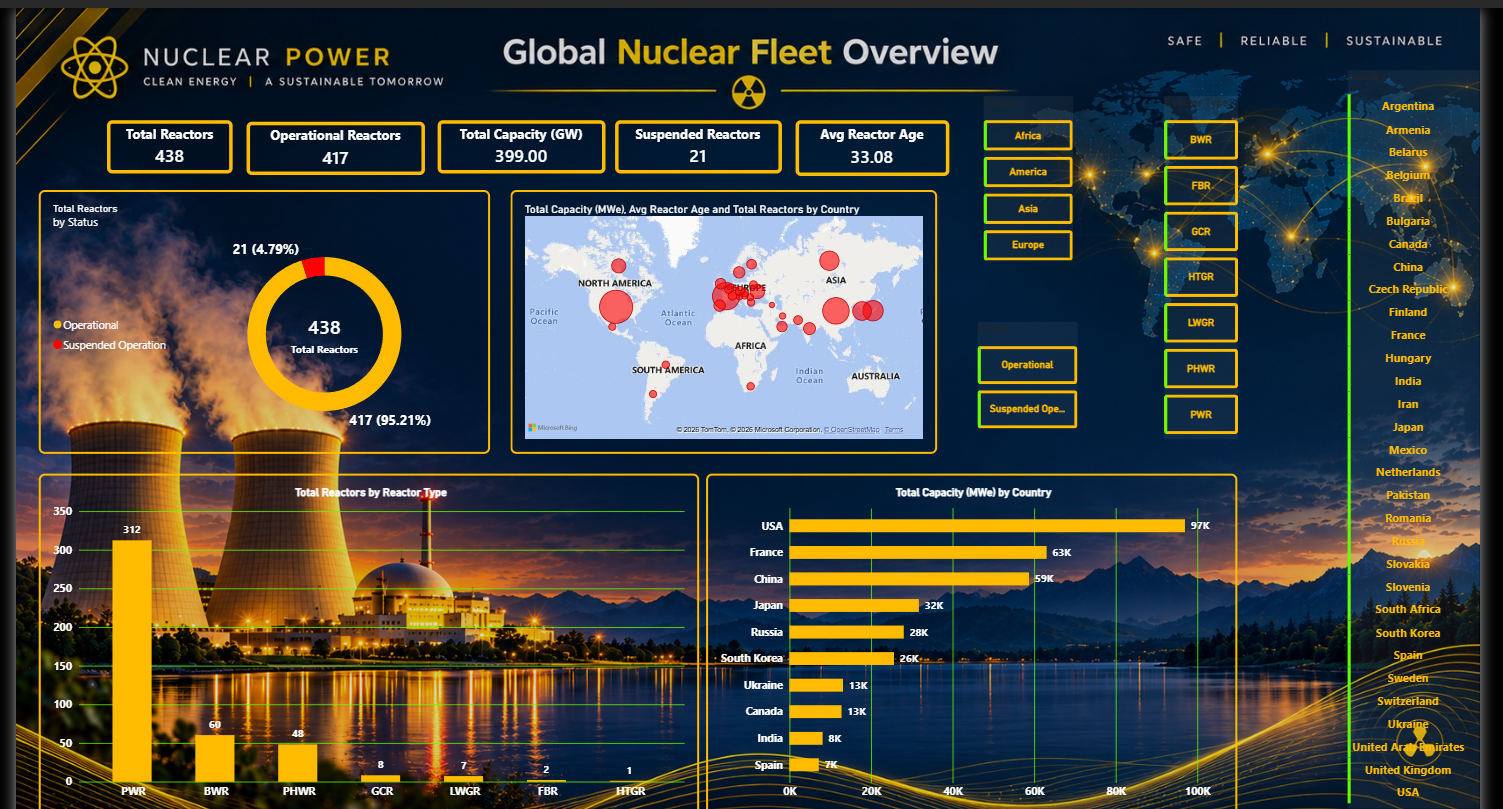

This screenshot's page, from the dashboard's own definition file:
{"tool":"powerbi","page":{"name":"Global Overview","canvas":[1920,1080],"ordinal":0},"visuals":[{"type":"cardVisual","fields":{"Data":["Reactors.Total Reactors"]},"box":[120,148,165,70],"z":0},{"type":"cardVisual","fields":{"Data":["Reactors.Operational Reactors"]},"box":[302,150,234.3,70],"z":1000},{"type":"cardVisual","fields":{"Data":["Reactors.Total Capacity (GW)"]},"box":[554,148,220,70],"z":2000},{"type":"cardVisual","fields":{"Data":["Reactors.Suspended Reactors"]},"box":[786.7,147.8,218.6,70],"z":3000},{"type":"cardVisual","fields":{"Data":["Reactors.Avg Reactor Age"]},"box":[1022.2,146.7,201.4,72.9],"z":4000},{"type":"map","fields":{"Category":["Reactors.Country "],"Size":["Reactors.Total Capacity (MWe)"]},"box":[648,238,560,346],"z":5000},{"type":"donutChart","fields":{"Category":["Reactors.Status"],"Y":["Reactors.Total Reactors"]},"box":[30,238,592,346],"z":6000},{"type":"clusteredColumnChart","fields":{"Category":["Reactors.Reactor Type"],"Y":["Reactors.Total Reactors"]},"box":[30,610,866.7,451.7],"z":7000},{"type":"advancedSlicerVisual","fields":{"Values":["Reactors.Region "]},"box":[1268.6,115.7,117.1,217.1],"z":7500},{"type":"clusteredBarChart","fields":{"Category":["Reactors.Country "],"Y":["Reactors.Total Capacity (MWe)"]},"box":[905,610,696.7,451.7],"z":8000},{"type":"advancedSlicerVisual","fields":{"Values":["Reactors.Status"]},"box":[1261.4,411.4,131.4,140],"z":10000},{"type":"listSlicer","fields":{"Values":["Reactors.Country "]},"box":[1747.1,81.4,172.9,968.6],"z":11000},{"type":"advancedSlicerVisual","fields":{"Values":["Reactors.Reactor Type"]},"box":[1505.7,115.7,97.1,450],"z":11001}]}

Visuals, with their boxes in screenshot pixels (x1, y1, x2, y2):
cardVisual - Reactors.Total Reactors: select_region(100, 114, 226, 167)
cardVisual - Reactors.Operational Reactors: select_region(239, 115, 419, 169)
cardVisual - Reactors.Total Capacity (GW): select_region(433, 114, 602, 167)
cardVisual - Reactors.Suspended Reactors: select_region(611, 113, 779, 167)
cardVisual - Reactors.Avg Reactor Age: select_region(792, 113, 946, 168)
map - Reactors.Country  x Reactors.Total Capacity (MWe): select_region(505, 183, 934, 448)
donutChart - Reactors.Status x Reactors.Total Reactors: select_region(31, 183, 485, 448)
clusteredColumnChart - Reactors.Reactor Type x Reactors.Total Reactors: select_region(31, 468, 696, 808)
advancedSlicerVisual - Reactors.Region : select_region(981, 89, 1071, 255)
clusteredBarChart - Reactors.Country  x Reactors.Total Capacity (MWe): select_region(702, 468, 1236, 808)
advancedSlicerVisual - Reactors.Status: select_region(975, 316, 1076, 423)
listSlicer - Reactors.Country : select_region(1348, 62, 1481, 805)
advancedSlicerVisual - Reactors.Reactor Type: select_region(1163, 89, 1237, 434)
